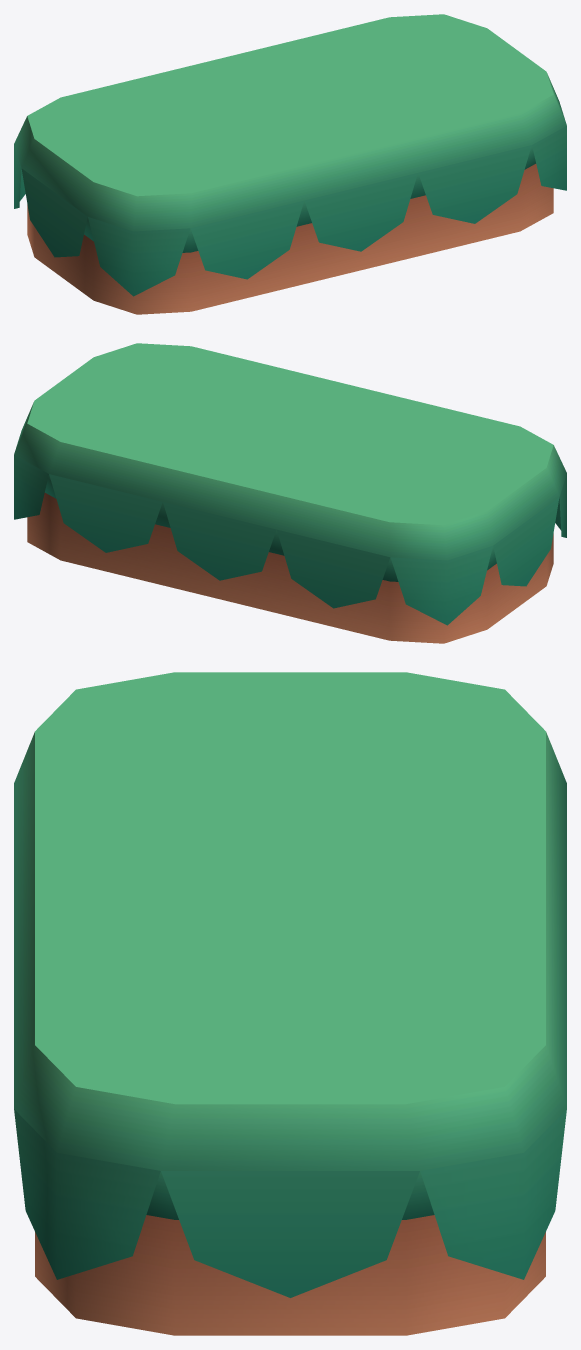
Rendered from block-grass-overhang-low-long.glb.
3 renders of one model, top to bottom at view 1: azimuth 30°, elevation 25°; view 2: azimuth 150°, elevation 25°; view 3: azimuth 270°, elevation 25°, orthographic. The views are drawn at different scales.
Parts seen in each view (by area): view 1: block-grass-overhang-low-long; view 2: block-grass-overhang-low-long; view 3: block-grass-overhang-low-long.
Part boxes in pixels (x1,y1,x2,y2): block-grass-overhang-low-long: [14, 14, 566, 314]; block-grass-overhang-low-long: [14, 343, 566, 643]; block-grass-overhang-low-long: [14, 672, 566, 1335].
Size of the model in its own units: 2.08 by 0.5 by 1.08.
1 material, 1 textured.
